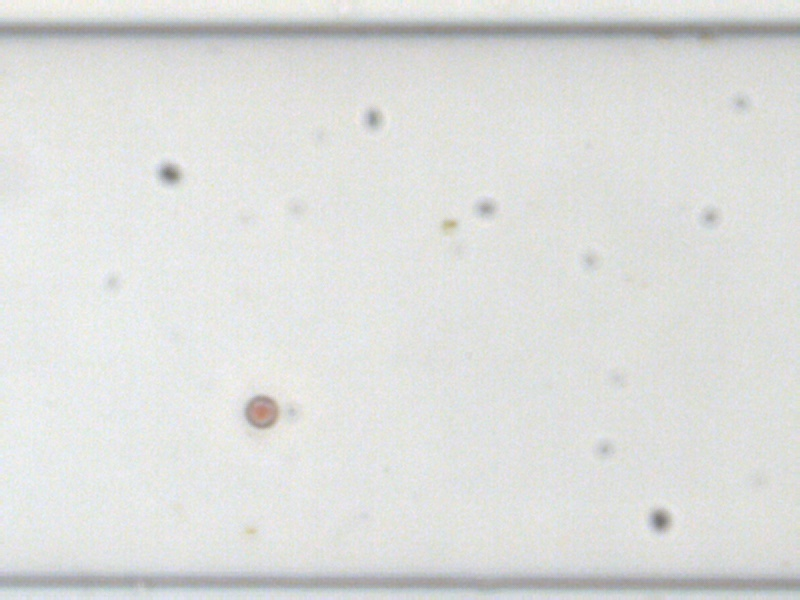Chlorella: (441, 216, 457, 229)
Porphyridium: (243, 394, 281, 429)
